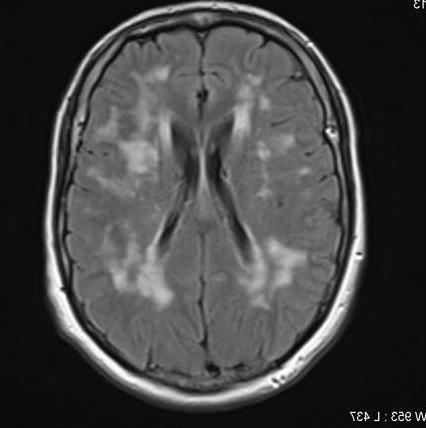Normal_Brain: (1, 1, 426, 428)
